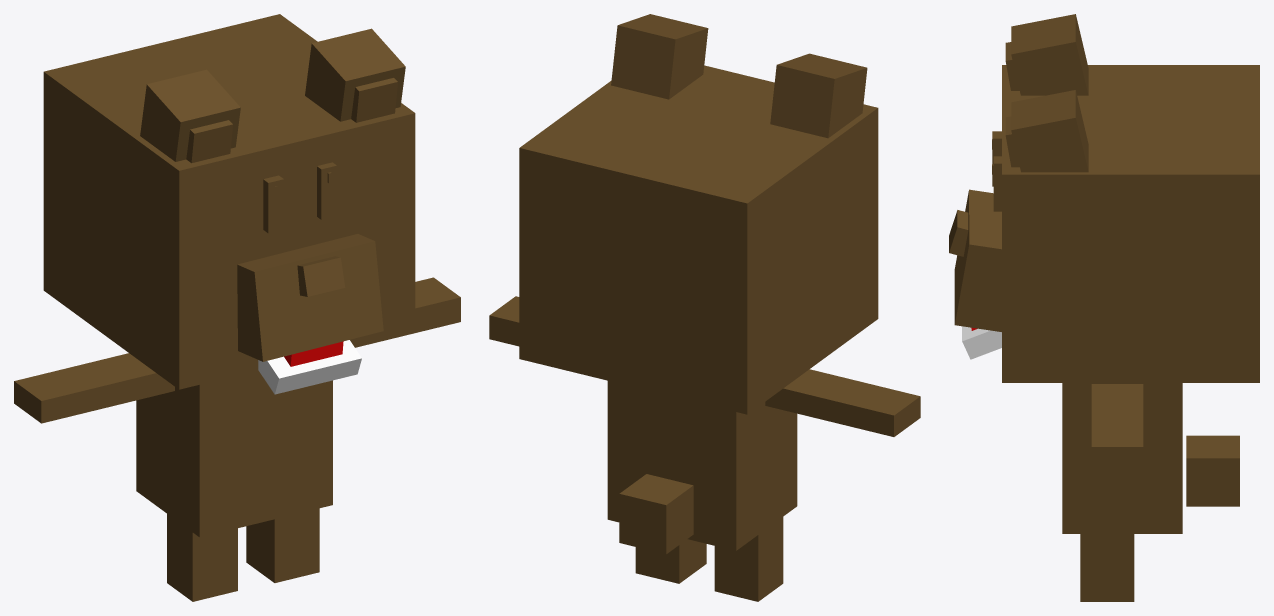
File: yoyo.obj
The picture shows the model from 3 angles, left to right: view 1: azimuth 30°, elevation 25°; view 2: azimuth 150°, elevation 25°; view 3: azimuth 270°, elevation 25°; orthographic projection. The views are drawn at different scales.
Parts seen in each view (by area): view 1: pCube4 pCube3 pCube1, pCube4 pCube3 pCube1 pCube22 pCube23 pCube13 pCube12 pCube15 pCu, pCube4 pCube3, pCube4 pCube3 pCube1 pCube22 pCube23 pCube13 pCube12 pCube15, pCube4 pCube3 pCube1 pCube22 pCube23 pCube13, pCube4 pCube3 pCube1 pCube22 pCube23 pCube13 pCube12, pCube4; view 2: pCube4 pCube3 pCube1, pCube4 pCube3 pCube1 pCube22 pCube23 pCube13 pCube12 pCube15 pCu, pCube4 pCube3 pCube1 pCube22 pCube23 pCube13, pCube4 pCube3 pCube1 pCube22 pCube23 pCube13 pCube12 pCube15; view 3: pCube4 pCube3 pCube1, pCube4 pCube3 pCube1 pCube22 pCube23 pCube13 pCube12 pCube15 pCu, pCube4 pCube3, pCube4 pCube3 pCube1 pCube22 pCube23 pCube13, pCube4.
Part boxes in pixels (box(x1,y1,x2,y2)): pCube4 pCube3 pCube1: box(43, 14, 415, 389); pCube4 pCube3 pCube1 pCube22 pCube23 pCube13 pCube12 pCube15 pCu: box(136, 28, 460, 601); pCube4 pCube3: box(237, 234, 383, 361); pCube4 pCube3 pCube1 pCube22 pCube23 pCube13 pCube12 pCube15: box(14, 353, 174, 423); pCube4 pCube3 pCube1 pCube22 pCube23 pCube13: box(140, 69, 240, 161); pCube4 pCube3 pCube1 pCube22 pCube23 pCube13 pCube12: box(186, 120, 232, 163); pCube4: box(297, 256, 345, 296); pCube4 pCube3 pCube1: box(519, 65, 878, 414); pCube4 pCube3 pCube1 pCube22 pCube23 pCube13 pCube12 pCube15 pCu: box(489, 14, 797, 601); pCube4 pCube3 pCube1 pCube22 pCube23 pCube13: box(770, 53, 867, 138); pCube4 pCube3 pCube1 pCube22 pCube23 pCube13 pCube12 pCube15: box(765, 369, 920, 436); pCube4 pCube3 pCube1: box(1002, 65, 1259, 382); pCube4 pCube3 pCube1 pCube22 pCube23 pCube13 pCube12 pCube15 pCu: box(962, 90, 1239, 601); pCube4 pCube3: box(954, 189, 1001, 331); pCube4 pCube3 pCube1 pCube22 pCube23 pCube13: box(1011, 14, 1088, 95); pCube4: box(949, 210, 968, 256).
Bounding box in the file's own units: 12.17 × 14.79 × 8.21.
